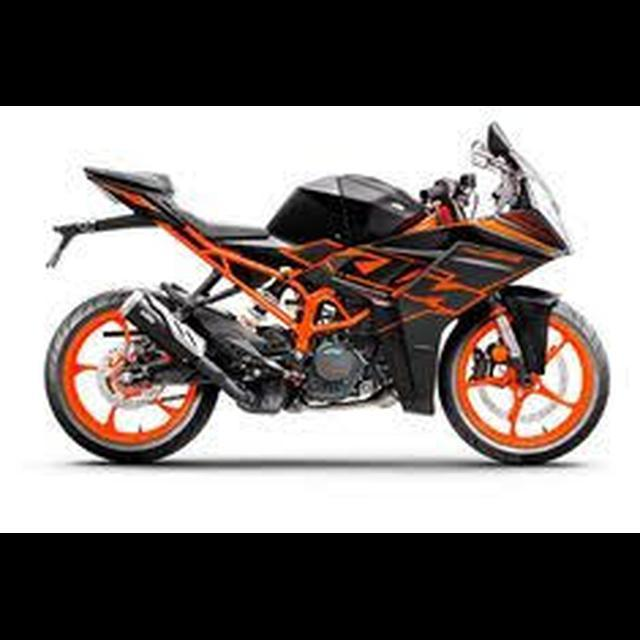motorcycle: (41, 117, 614, 471)
